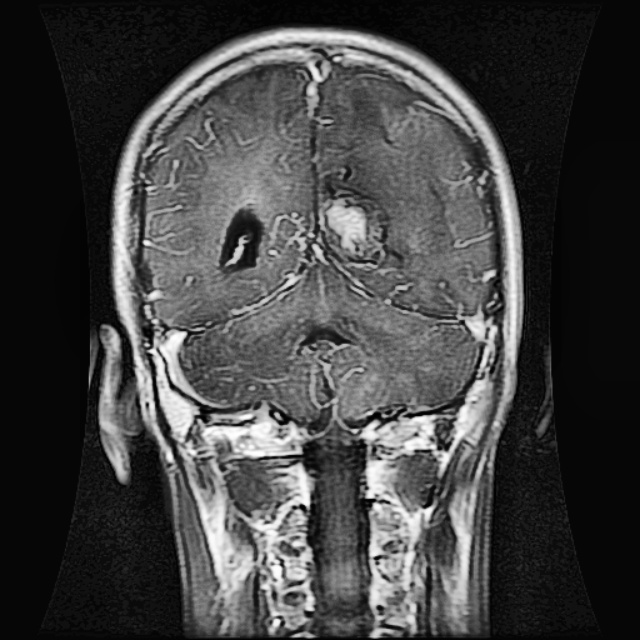Meningioma: (293, 180, 405, 270)
